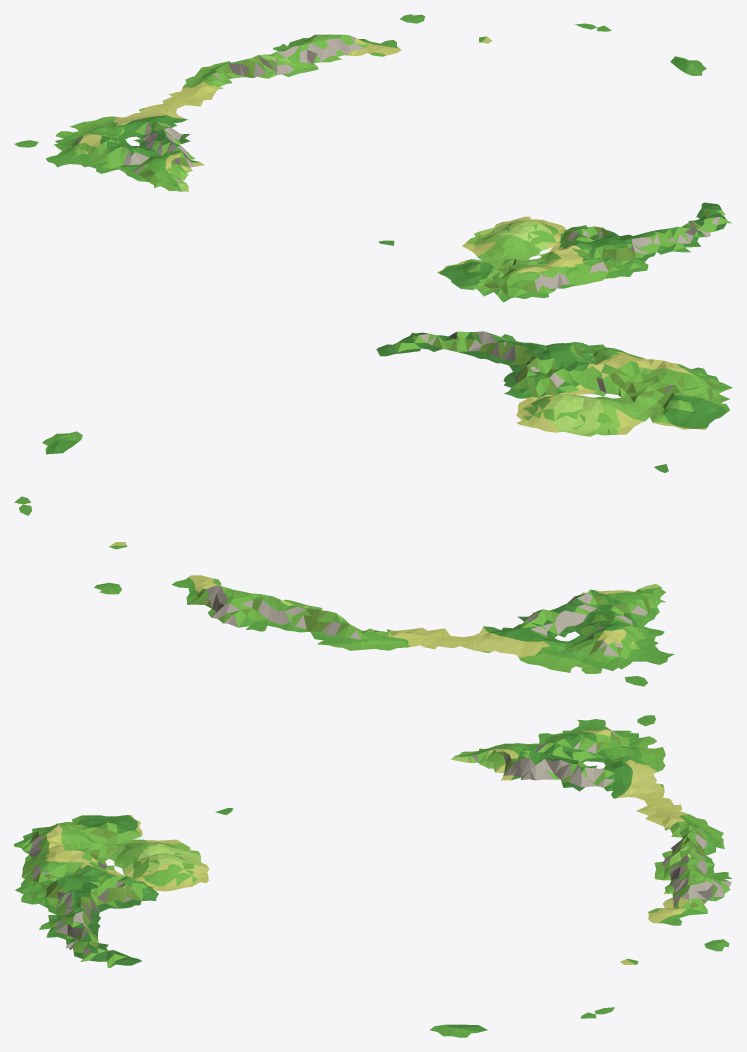
The model's file is Isl-start5-Relief.fbx.
3 renders of one model, top to bottom at view 1: azimuth 30°, elevation 25°; view 2: azimuth 150°, elevation 25°; view 3: azimuth 270°, elevation 25°, orthographic. The views are drawn at different scales.
Visible parts, largest first — view 1: Isl-start5-Relief-c12, Isl-start5-Relief-c21, Isl-start5-Relief-c11, Isl-start5-Relief-c22; view 2: Isl-start5-Relief-c12, Isl-start5-Relief-c21, Isl-start5-Relief-c11, Isl-start5-Relief-c22; view 3: Isl-start5-Relief-c12, Isl-start5-Relief-c21, Isl-start5-Relief-c11, Isl-start5-Relief-c22.
Boxes of the visible parts, bbox=[...] form: Isl-start5-Relief-c12: bbox=[14, 50, 300, 191]; Isl-start5-Relief-c21: bbox=[503, 202, 731, 283]; Isl-start5-Relief-c11: bbox=[378, 222, 582, 302]; Isl-start5-Relief-c22: bbox=[273, 14, 702, 75]; Isl-start5-Relief-c12: bbox=[278, 583, 674, 686]; Isl-start5-Relief-c21: bbox=[376, 331, 638, 430]; Isl-start5-Relief-c11: bbox=[544, 356, 732, 472]; Isl-start5-Relief-c22: bbox=[14, 431, 305, 631]; Isl-start5-Relief-c12: bbox=[451, 715, 724, 869]; Isl-start5-Relief-c21: bbox=[22, 853, 208, 967]; Isl-start5-Relief-c11: bbox=[23, 808, 233, 869]; Isl-start5-Relief-c22: bbox=[430, 855, 732, 1031].
Bounding box in the file's own units: 90.48 × 2.49 × 85.34.
